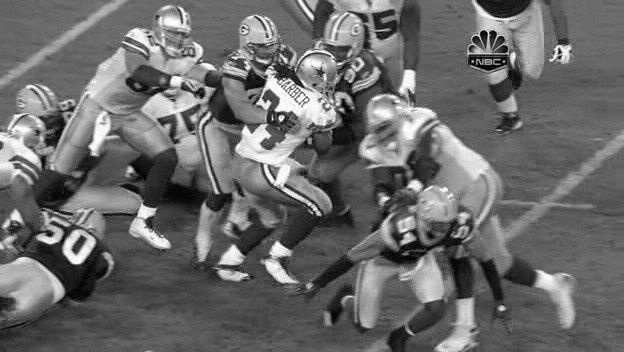person: (305, 53, 340, 98), (304, 53, 339, 98), (306, 53, 341, 98), (305, 52, 340, 97), (305, 54, 340, 99)
target_negative: (84, 265, 440, 344), (551, 71, 608, 238), (543, 95, 570, 334), (224, 6, 258, 160), (34, 92, 183, 123), (96, 341, 345, 343)
